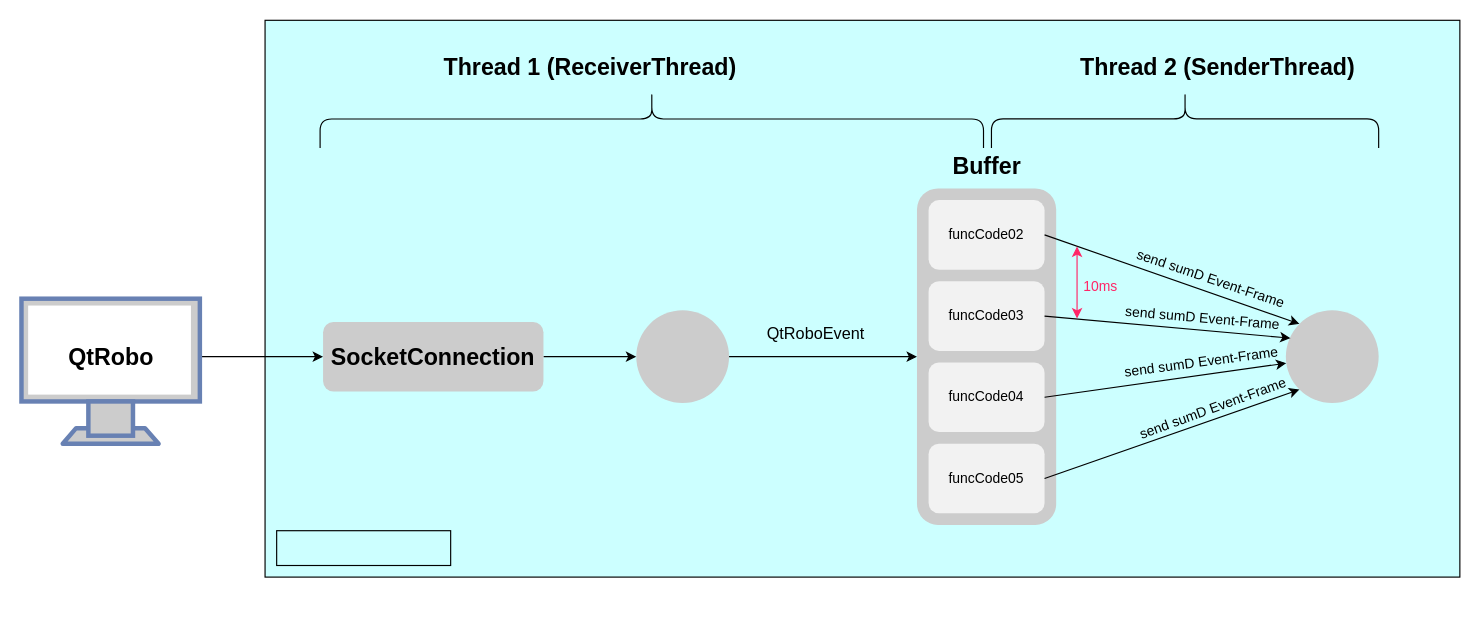
Image size: 1480x626. Some labels were removed from this diagram. The shapes that lost their labels are listed below. From the top down, each one's centre as x and y in pixels, then its label:
(x=682, y=356): Parser
(x=1331, y=356): cout
(x=363, y=548): QtRoboParser
